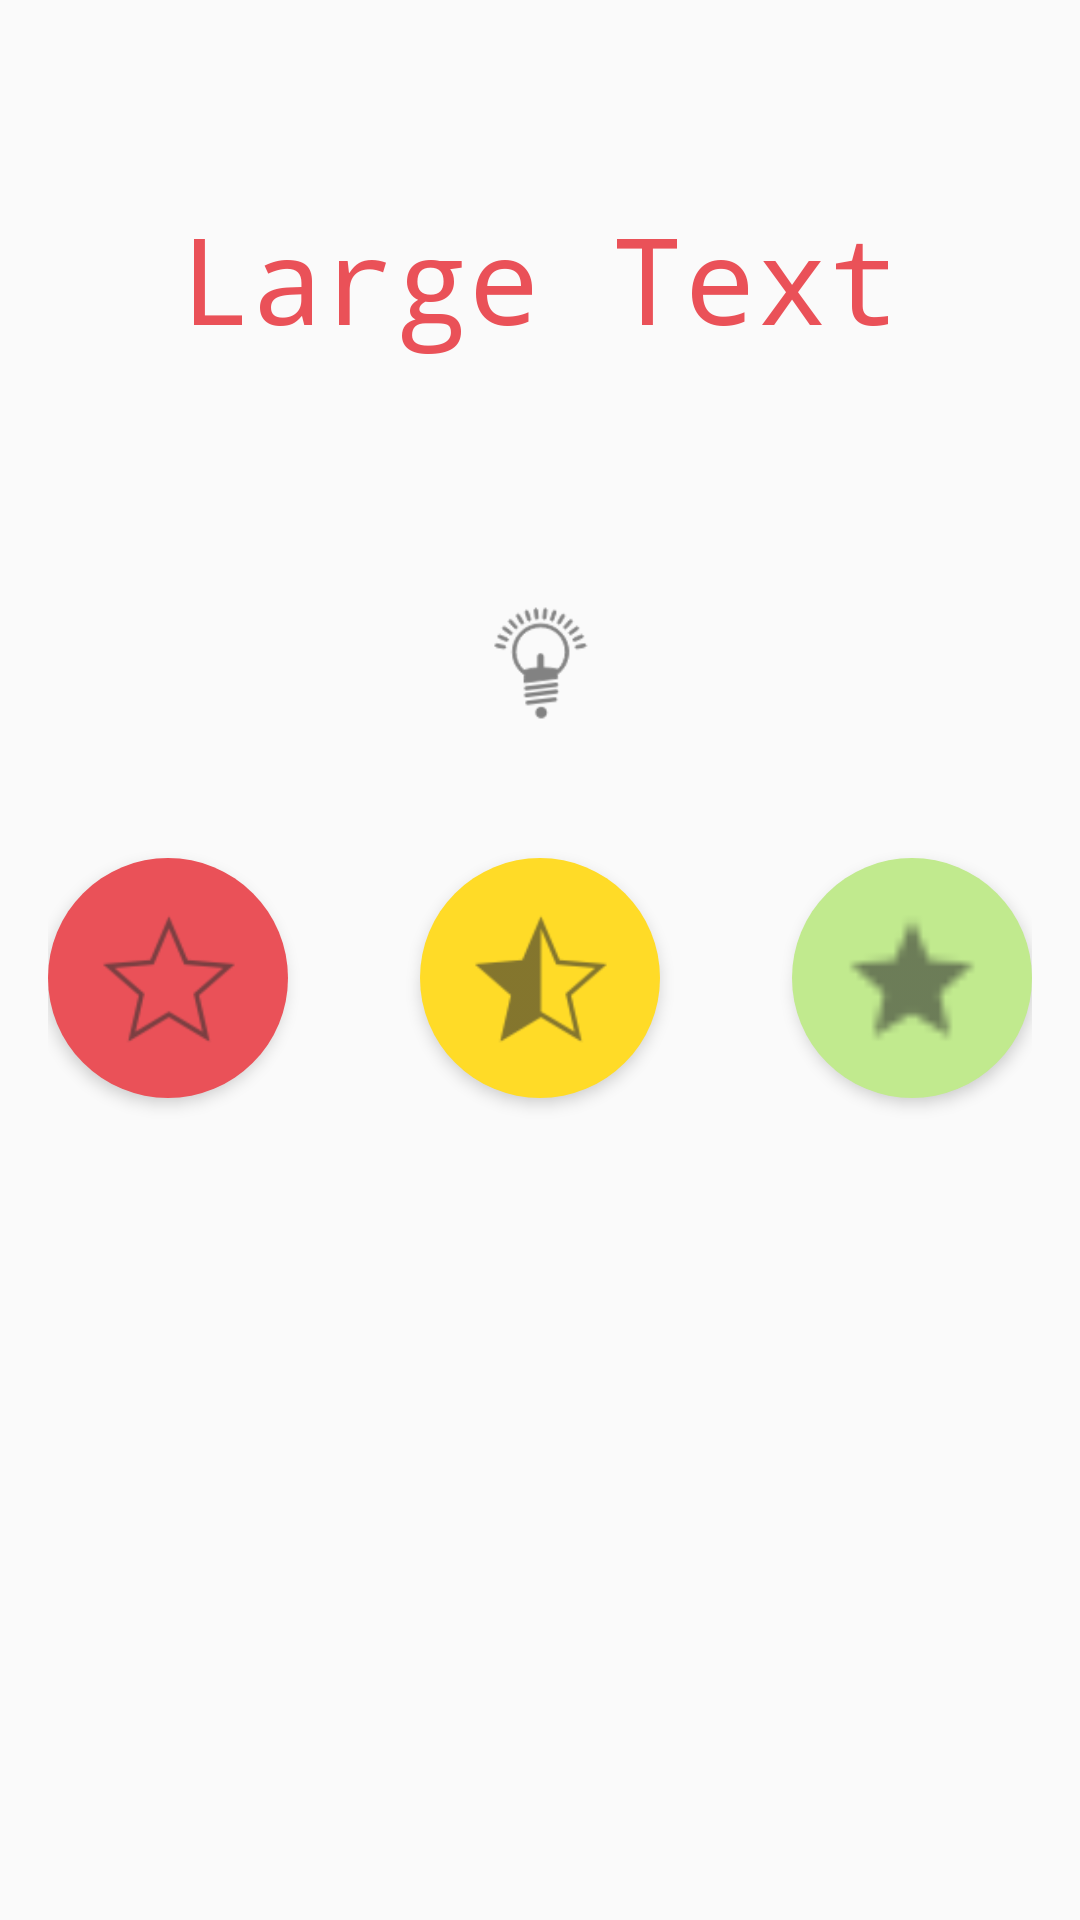

Screen size 1080 x 1920. Icon name, then its center in pixels as point (x, y):
bulb: point (540, 663)
